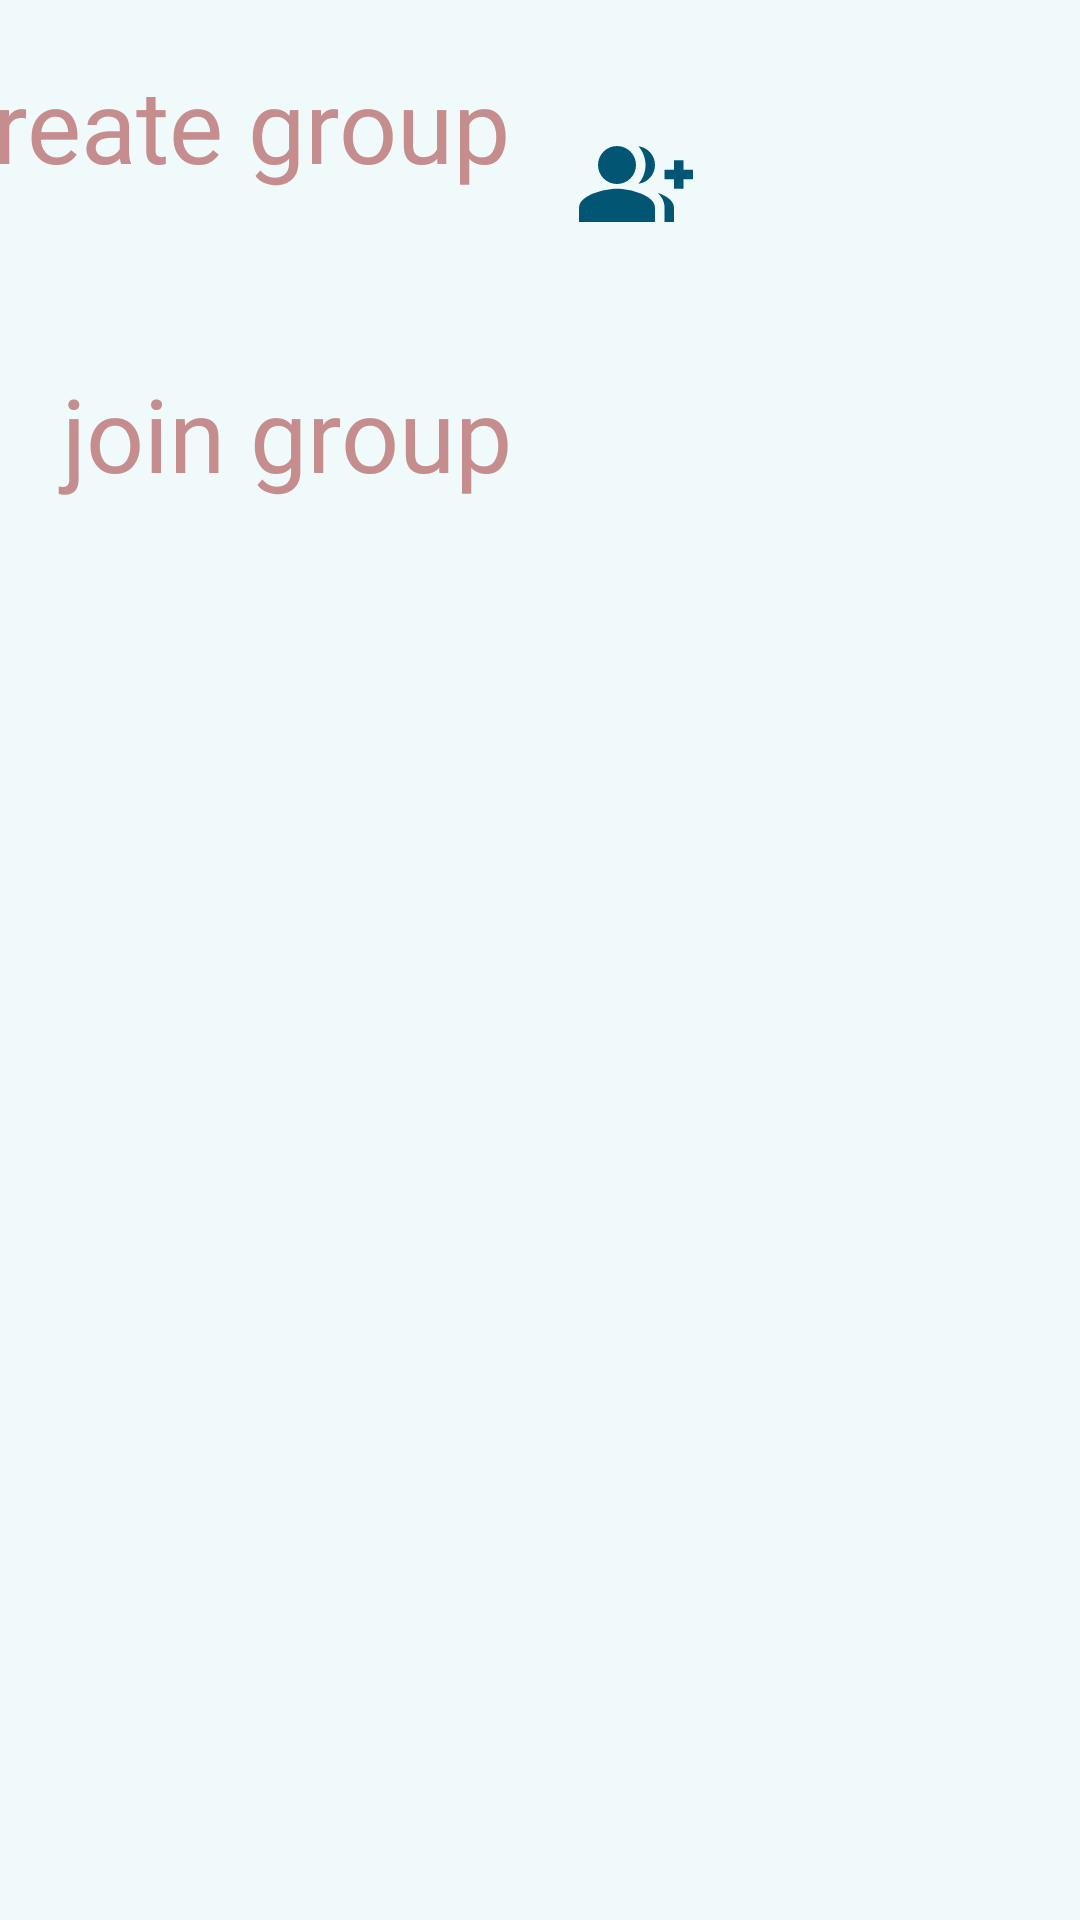

Point at icon controls on the screen. Image size 1080 × 1920, points as point (x, y).
group add: point (636, 184)
